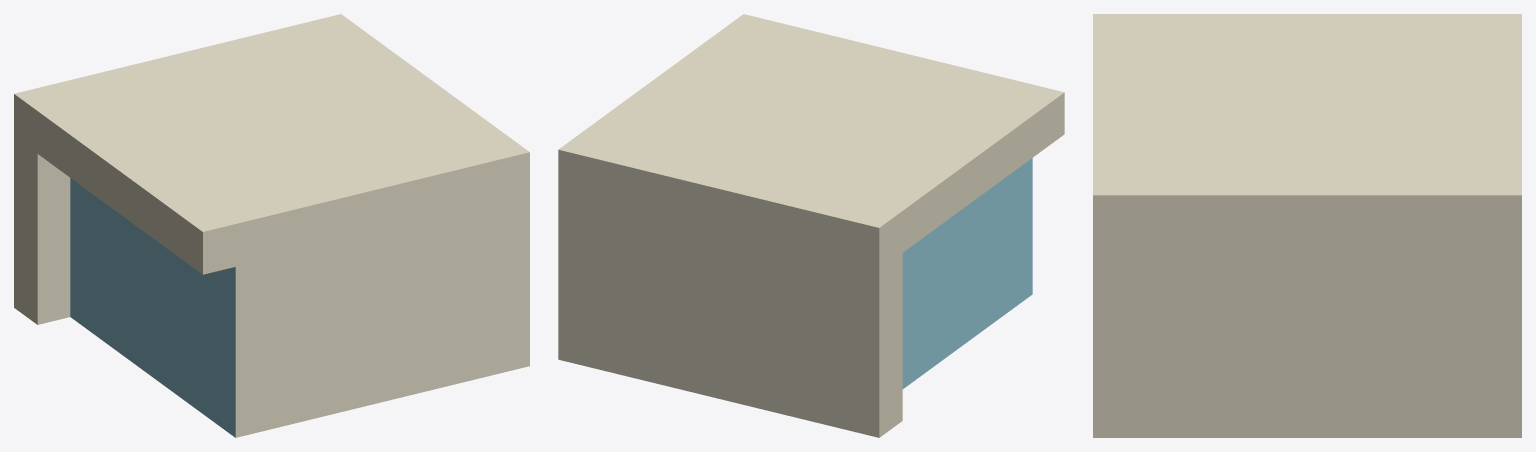
File: modularBuildings_071.obj
The picture shows the model from 3 angles, left to right: view 1: azimuth 30°, elevation 25°; view 2: azimuth 150°, elevation 25°; view 3: azimuth 270°, elevation 25°; orthographic projection. The views are drawn at different scales.
Visible parts, largest first — view 1: Mesh1 Group1 Model; view 2: Mesh1 Group1 Model; view 3: Mesh1 Group1 Model.
Boxes of the visible parts, bbox=[...] form: Mesh1 Group1 Model: bbox=[14, 14, 529, 437]; Mesh1 Group1 Model: bbox=[558, 14, 1064, 437]; Mesh1 Group1 Model: bbox=[1093, 14, 1521, 437].
Size of the model in its own units: 1 by 0.625 by 1.
